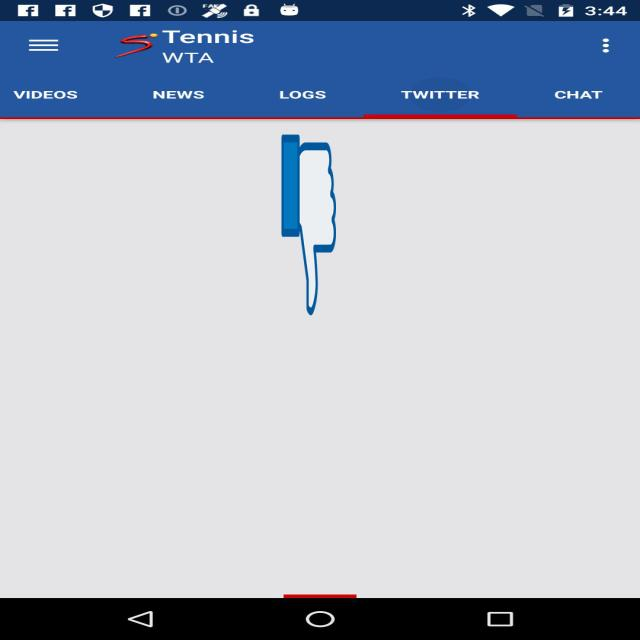obstruction: (281, 131, 336, 319)
